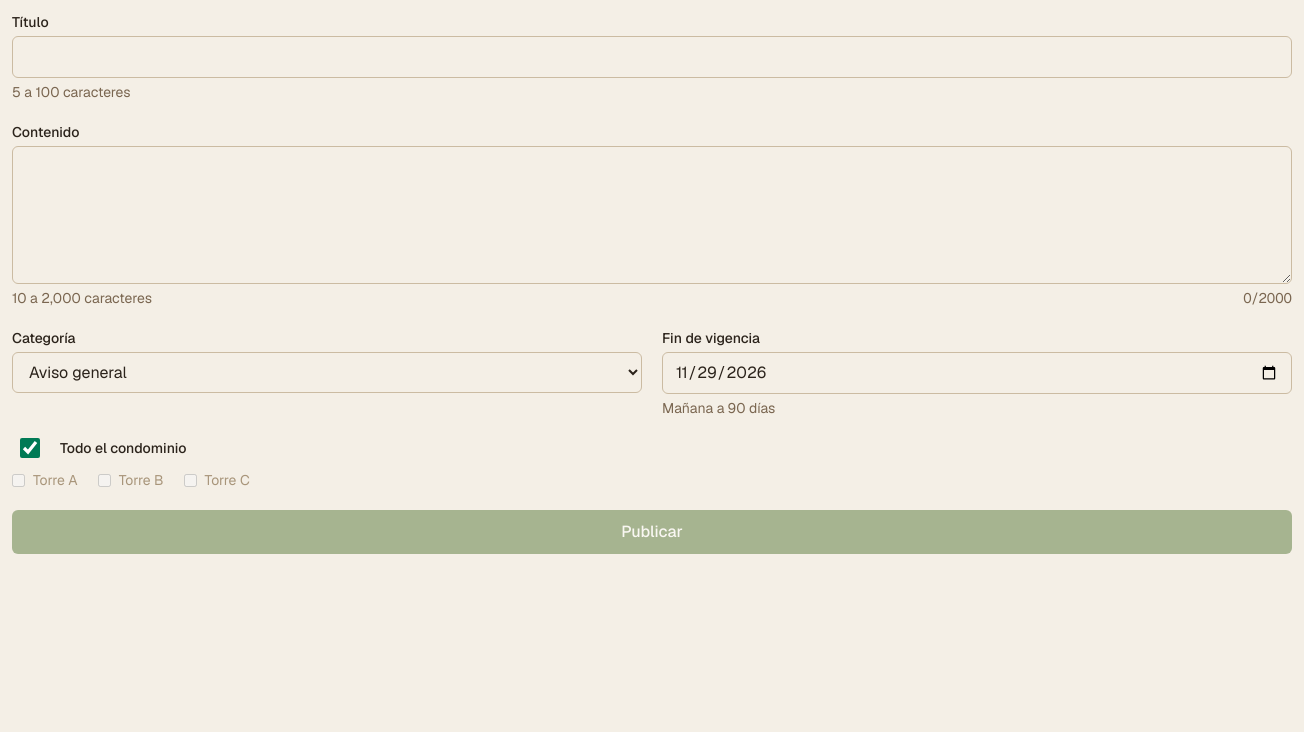
Test case: H25. Publicación de comunicados segmentados › AC1: rechaza la fecha de fin vacía
Type "Corte de agua el 4 de diciembre" into the field labelled "Título" at (652, 57), box [12,36,1292,78]
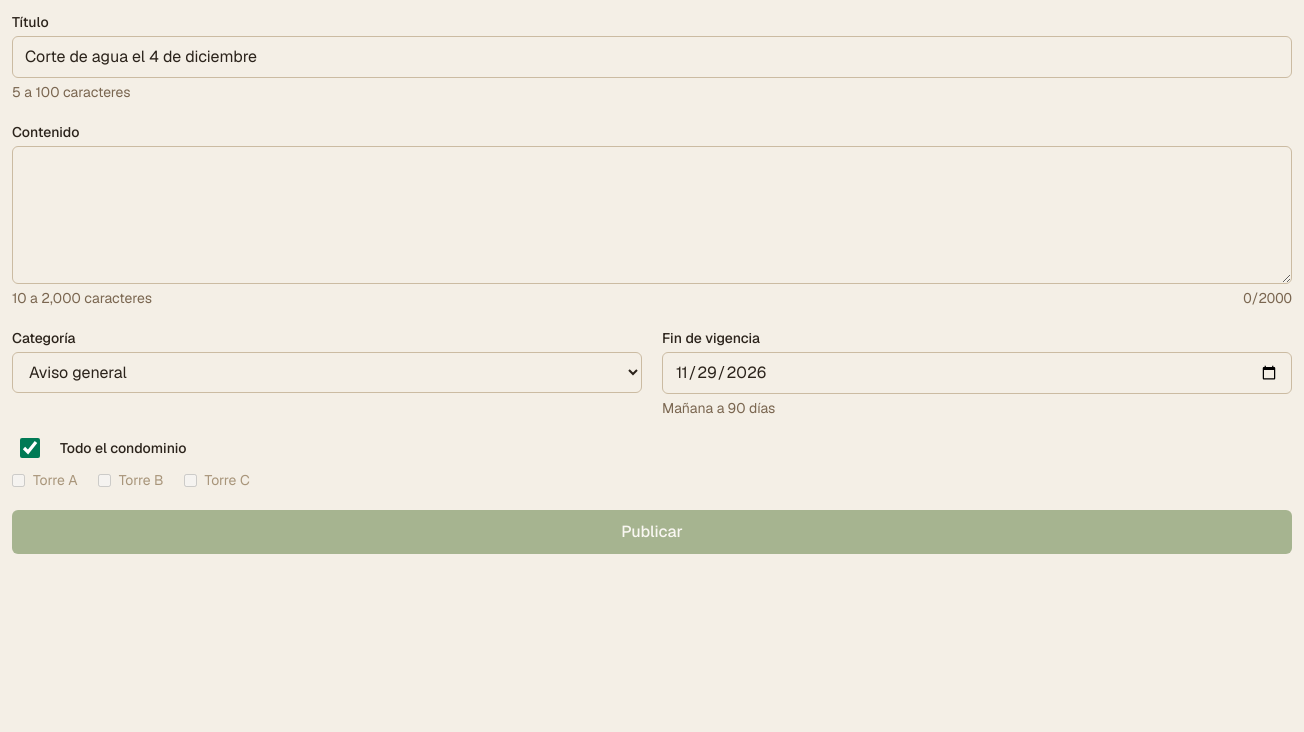
Type "No habrá agua de 08:00 a 16:00 en la Torre A." into the text box labelled "Contenido" at (652, 215), box [12,146,1292,284]
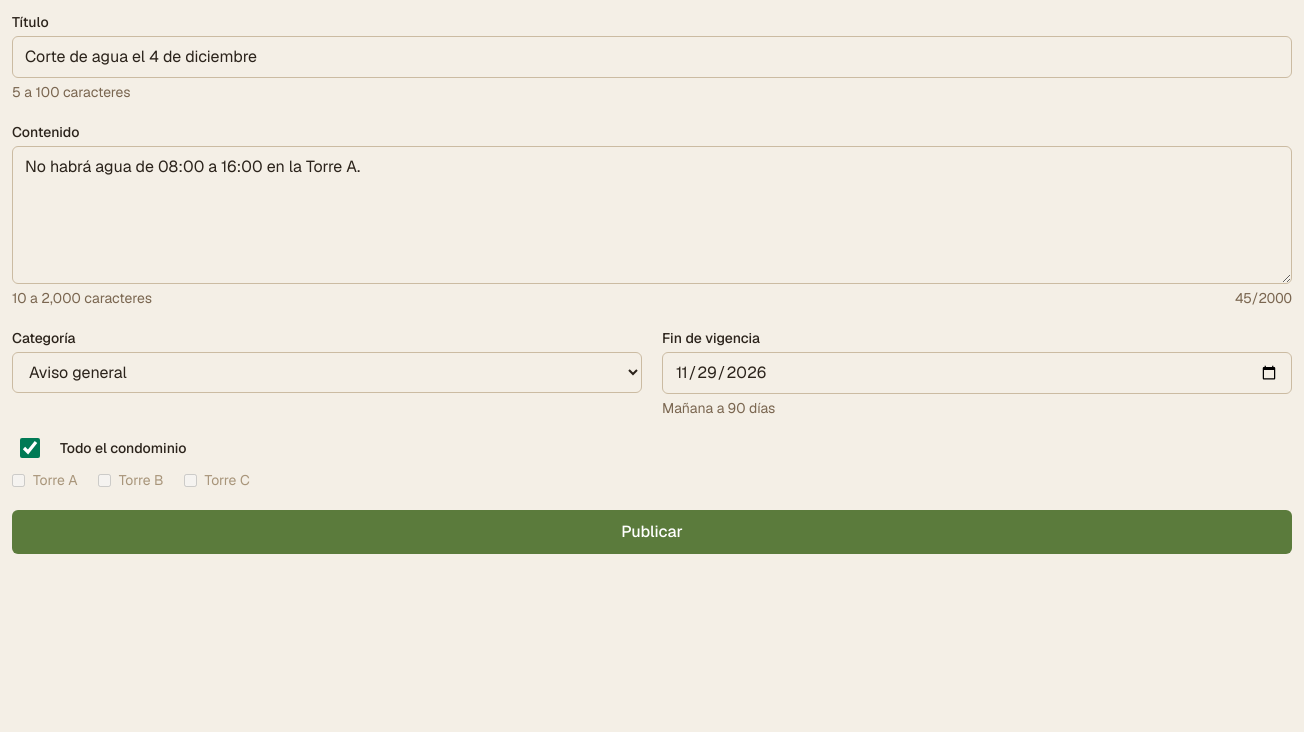
Clear the date field labelled "Fin de vigencia" at (977, 373), box [662,352,1292,394]
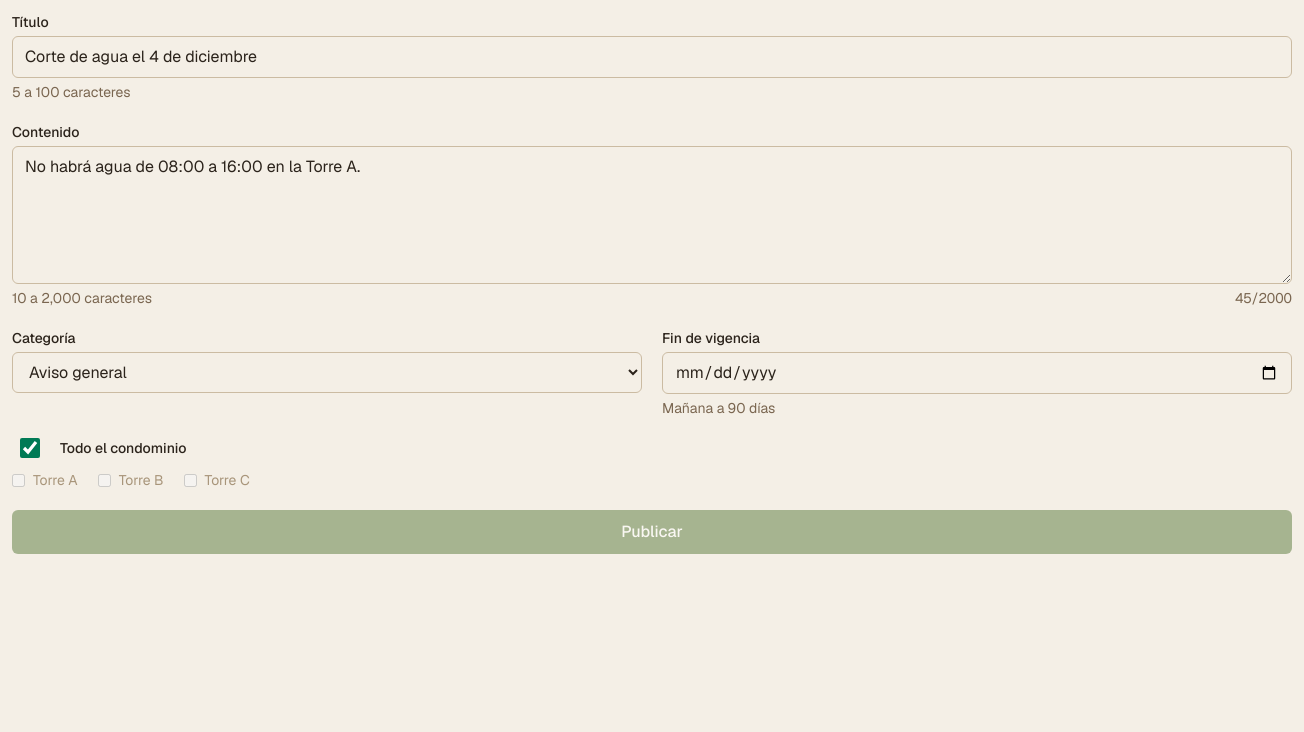
Leave the date field labelled "Fin de vigencia", box [662,352,1292,394]
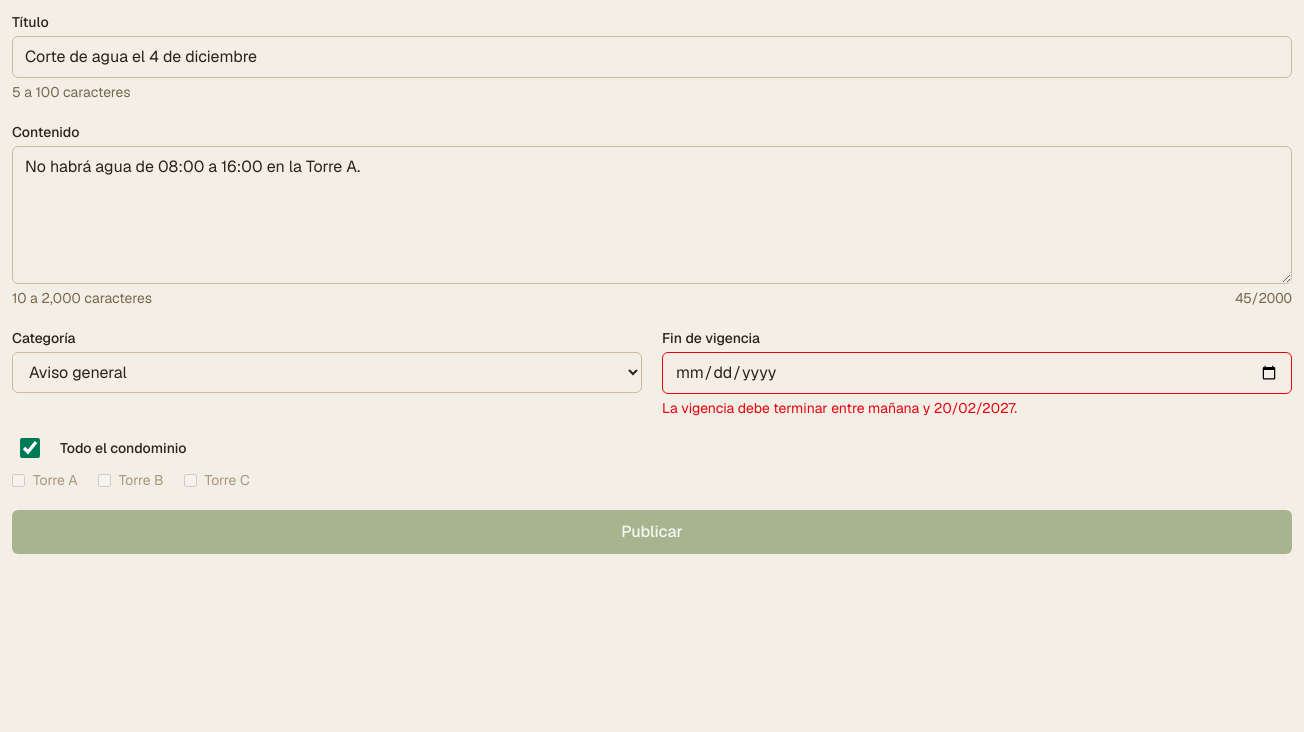
Expected: the button "Publicar" is disabled, [12,510,1292,554]
Expected: the message reads "La vigencia debe terminar entre mañana y 20/02/2027.", [662,399,1017,417]
